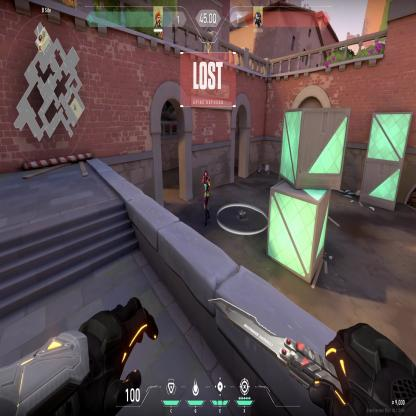enemy: (200, 167, 212, 228)
